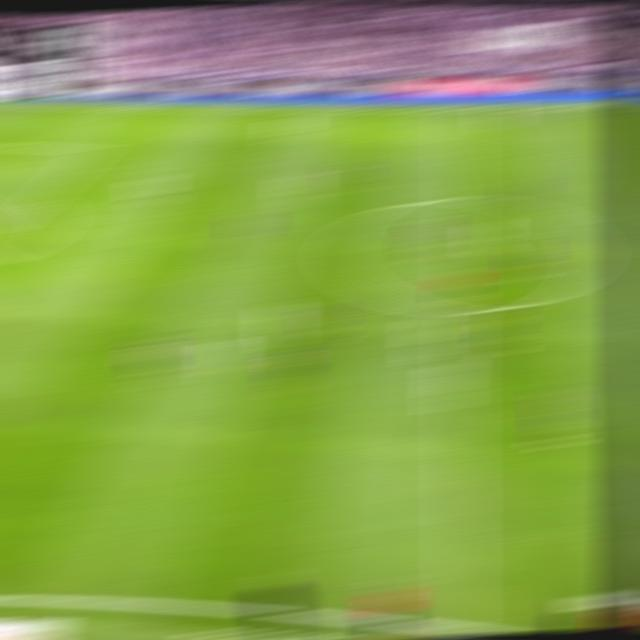bigarea_top_inner: (80, 143, 107, 154)
corner: (0, 99, 13, 107)
halfcircle_bottom: (445, 301, 477, 321)
halfcircle_top: (444, 186, 477, 210)
midline_bottom_intersection: (439, 609, 483, 635)
midline_top_intersection: (445, 103, 475, 115)
top_arc_area_intersection: (24, 191, 54, 205)
